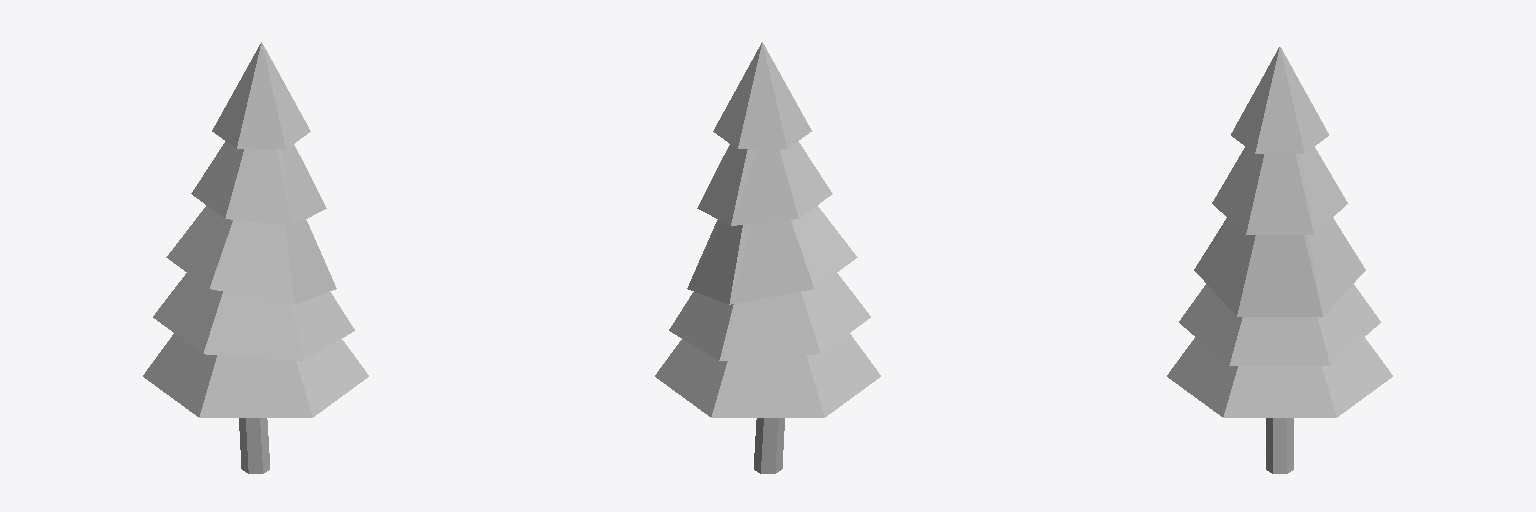
Rendered from tree1.obj.
3 renders of one model, left to right at view 1: azimuth 30°, elevation 25°; view 2: azimuth 150°, elevation 25°; view 3: azimuth 270°, elevation 25°, orthographic.
Parts seen in each view (by area): view 1: Tree_Type1_04_Circle.001; view 2: Tree_Type1_04_Circle.001; view 3: Tree_Type1_04_Circle.001.
Boxes of the visible parts, x1,y1,x2,y2 form: Tree_Type1_04_Circle.001: [143, 42, 368, 473]; Tree_Type1_04_Circle.001: [655, 42, 880, 473]; Tree_Type1_04_Circle.001: [1167, 47, 1392, 473].
Bounding box in the file's own units: 1.84 × 4.39 × 2.12.